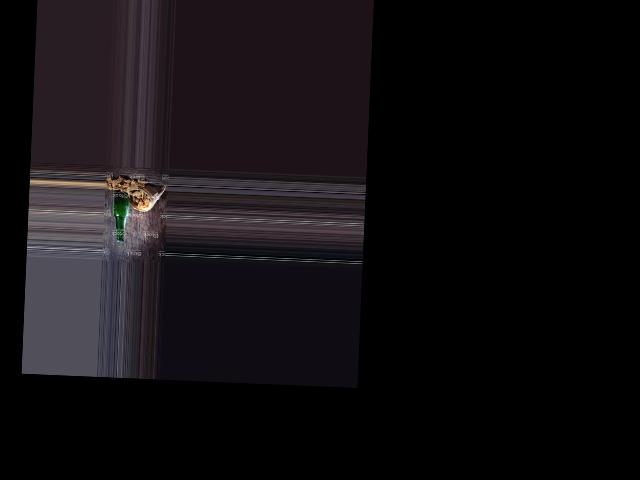beer: (111, 186, 129, 242)
